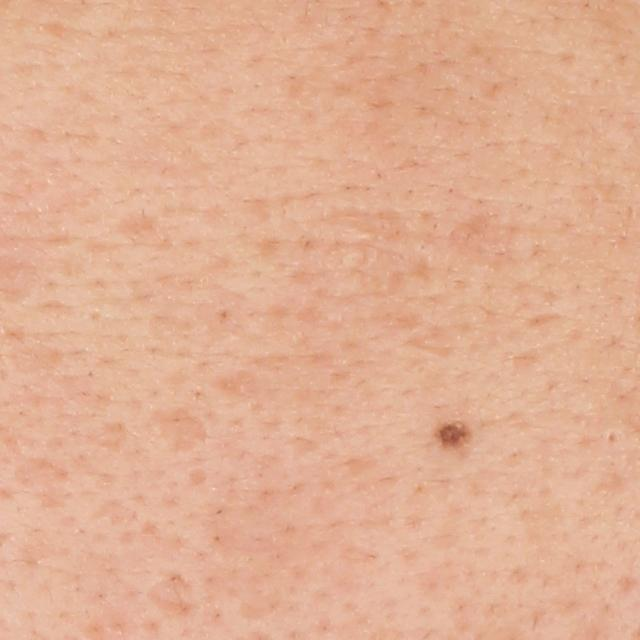atrophic_scar: (135, 566, 198, 627), (150, 404, 211, 454), (116, 206, 149, 242)
comedo: (598, 424, 626, 444)
nevus: (429, 417, 477, 450)
